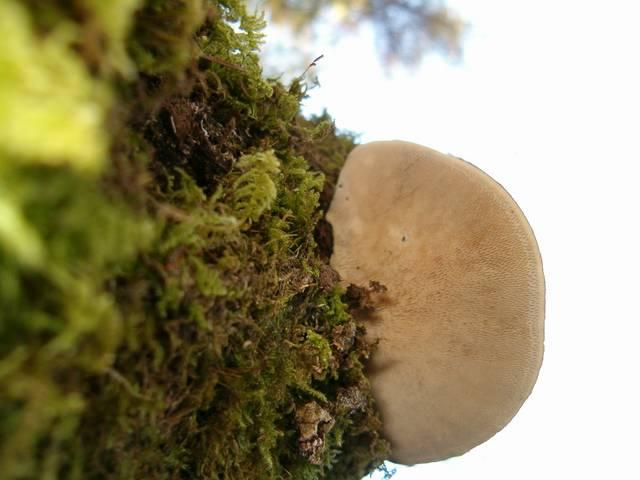poisonous_mushroom: (320, 137, 547, 466)
